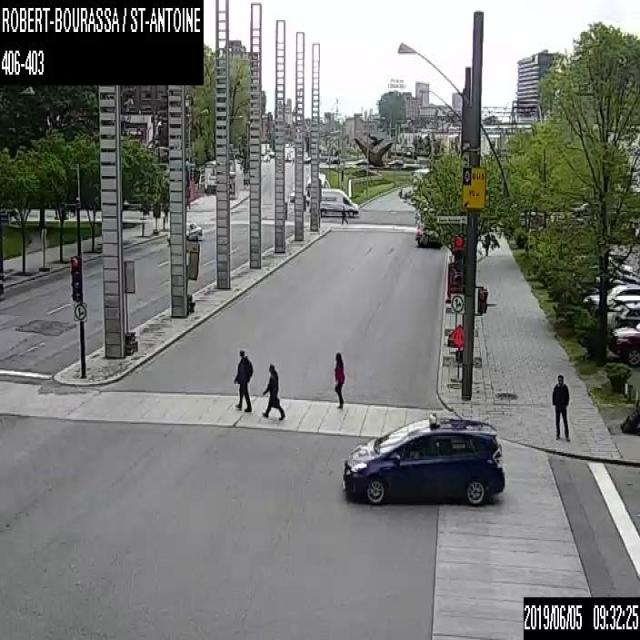bus: (305, 172, 325, 205)
construction: (122, 259, 136, 354), (185, 241, 199, 314), (449, 324, 463, 385)
pedestrian: (232, 349, 253, 412), (261, 363, 284, 420), (550, 372, 569, 440), (332, 351, 343, 409), (340, 203, 348, 224)
vehicle: (341, 411, 504, 505), (583, 283, 639, 310), (608, 320, 639, 366), (319, 187, 358, 217), (166, 221, 202, 244), (614, 300, 639, 326), (414, 225, 440, 247), (302, 194, 306, 210), (290, 186, 294, 200), (263, 153, 269, 160)
